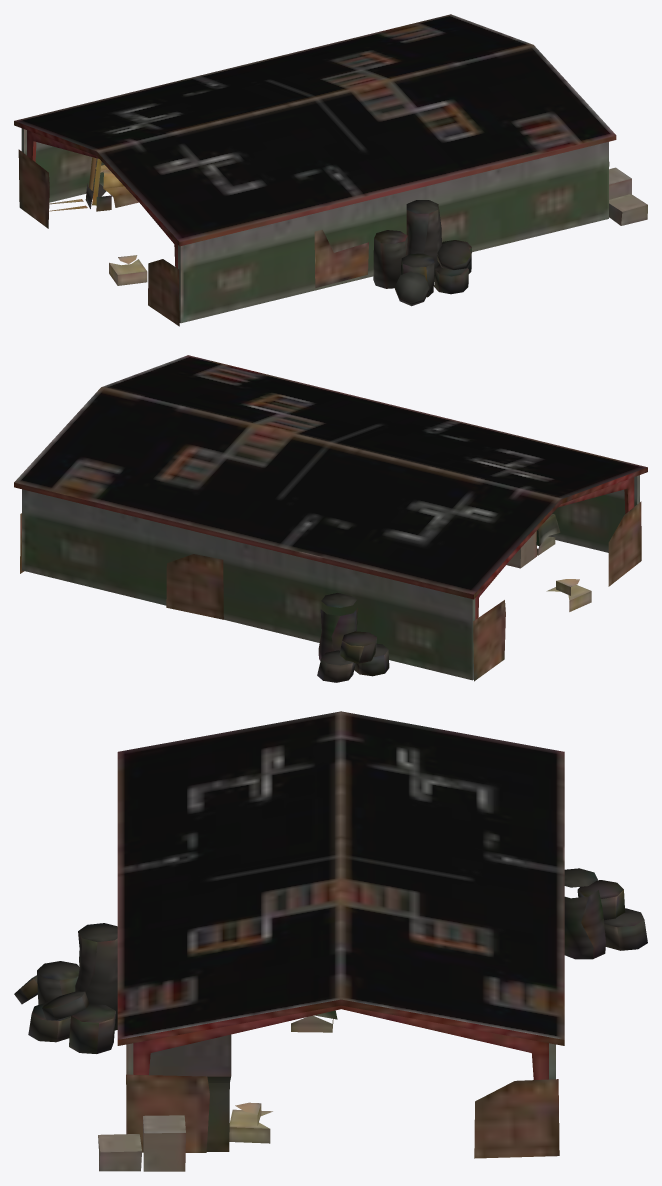
Rendered from warehouse.glb.
3 views of the same model, one above another, from view 1: azimuth 30°, elevation 25°; view 2: azimuth 150°, elevation 25°; view 3: azimuth 270°, elevation 25° (orthographic). The views are drawn at different scales.
Visible parts, largest first — view 1: warehouse_hlod; view 2: warehouse_hlod; view 3: warehouse_hlod.
Part boxes in pixels (<box>): warehouse_hlod: <box>14,14,647,326</box>; warehouse_hlod: <box>14,355,647,682</box>; warehouse_hlod: <box>14,711,647,1171</box>.
Bounding box in the file's own units: 26.26 × 6.42 × 22.87.
Materials: 1 (1 with a texture image).
